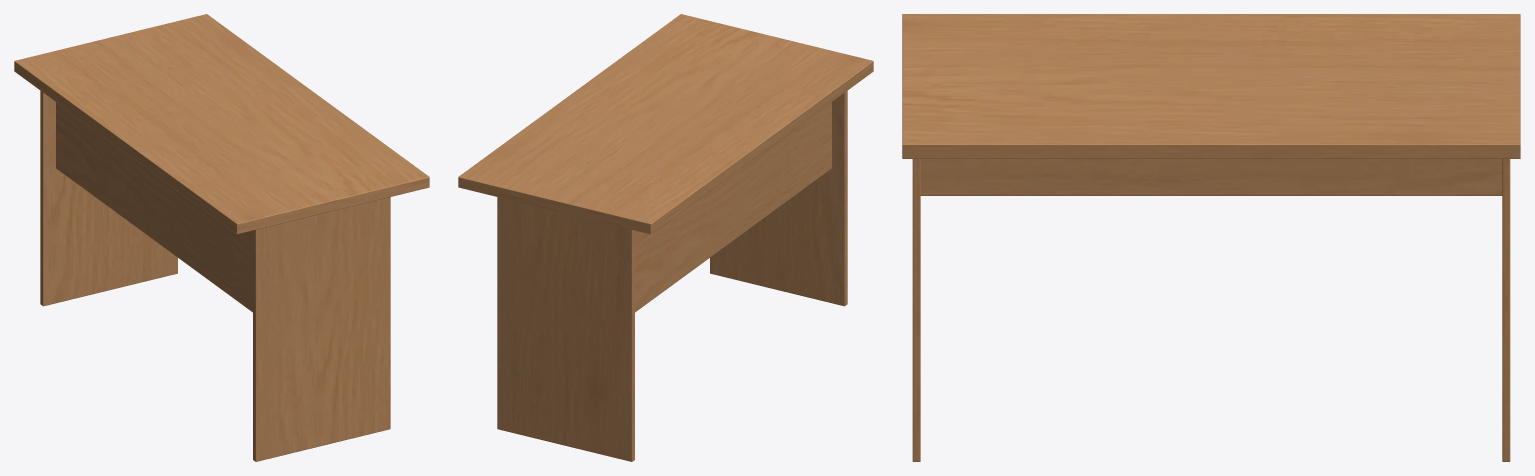
File: simple_desk.glb
3 renders of one model, left to right at view 1: azimuth 30°, elevation 25°; view 2: azimuth 150°, elevation 25°; view 3: azimuth 270°, elevation 25°, orthographic. The views are drawn at different scales.
Visible parts, largest first — view 1: Object_4; view 2: Object_4; view 3: Object_4.
Boxes of the visible parts, x1=… form: Object_4: x1=14, y1=14, x2=429, y2=461; Object_4: x1=458, y1=14, x2=873, y2=461; Object_4: x1=902, y1=14, x2=1520, y2=461.
Bounding box in the file's own units: 0.8034 × 0.9801 × 1.61.
Materials: 1 (1 with a texture image).
